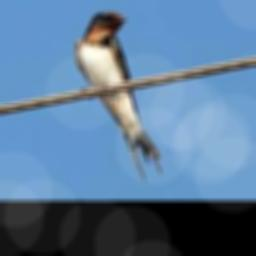Swallow: (75, 11, 162, 181)
